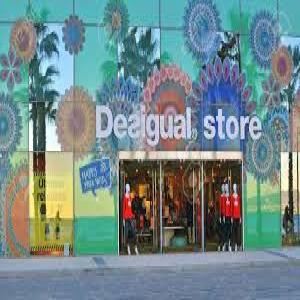desigual: (93, 103, 196, 144)
